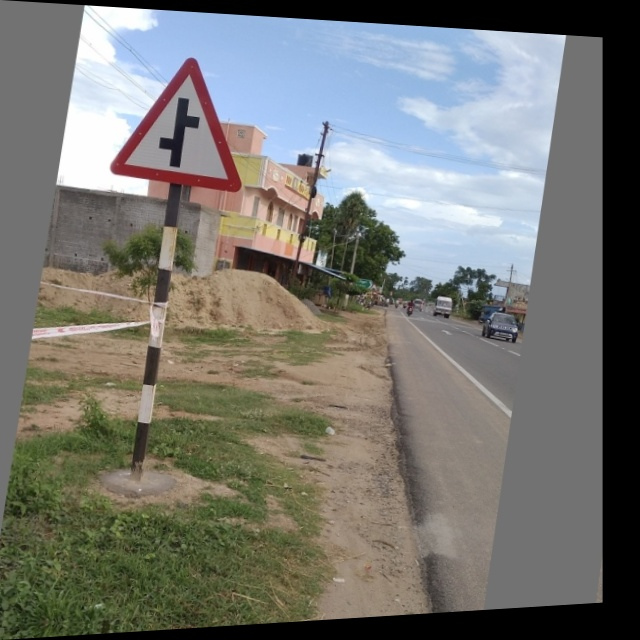Staggered_Intersection: (110, 33, 263, 205)
